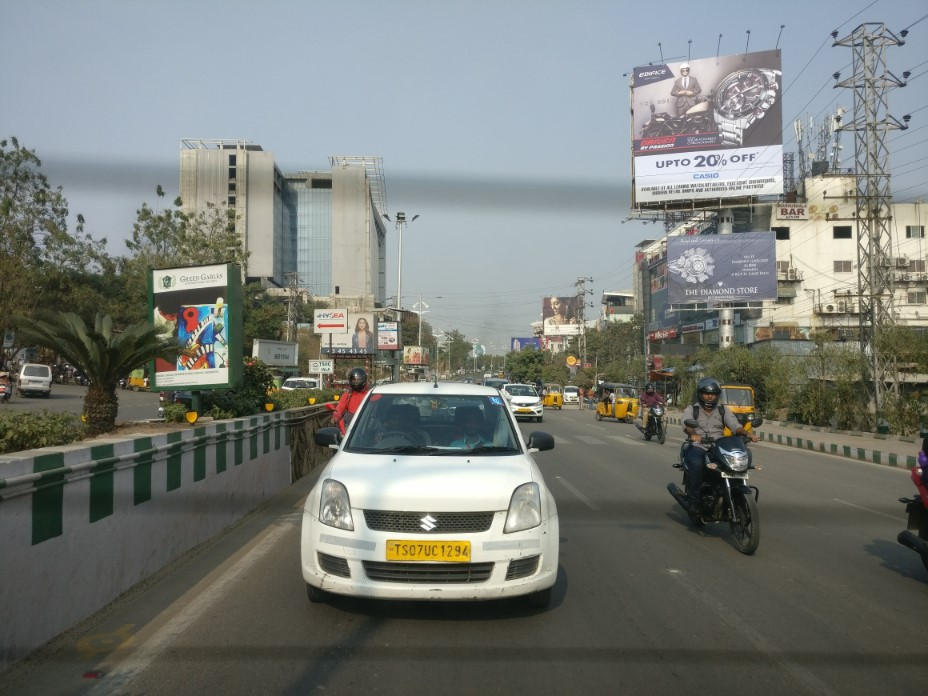swift desire: (302, 371, 561, 621)
